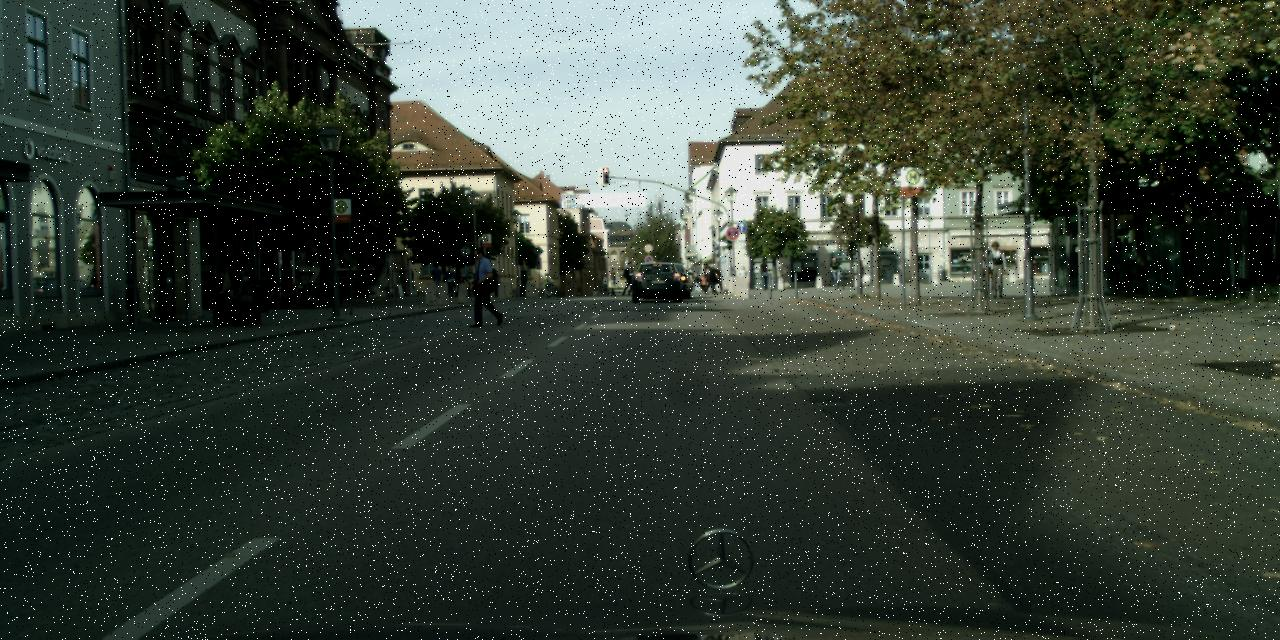ped: (468, 246, 500, 323), (985, 240, 1008, 297), (692, 264, 722, 294), (621, 261, 635, 295), (444, 264, 456, 296), (430, 264, 442, 295), (758, 258, 769, 289), (488, 269, 499, 296), (830, 257, 840, 283), (544, 272, 551, 292)
